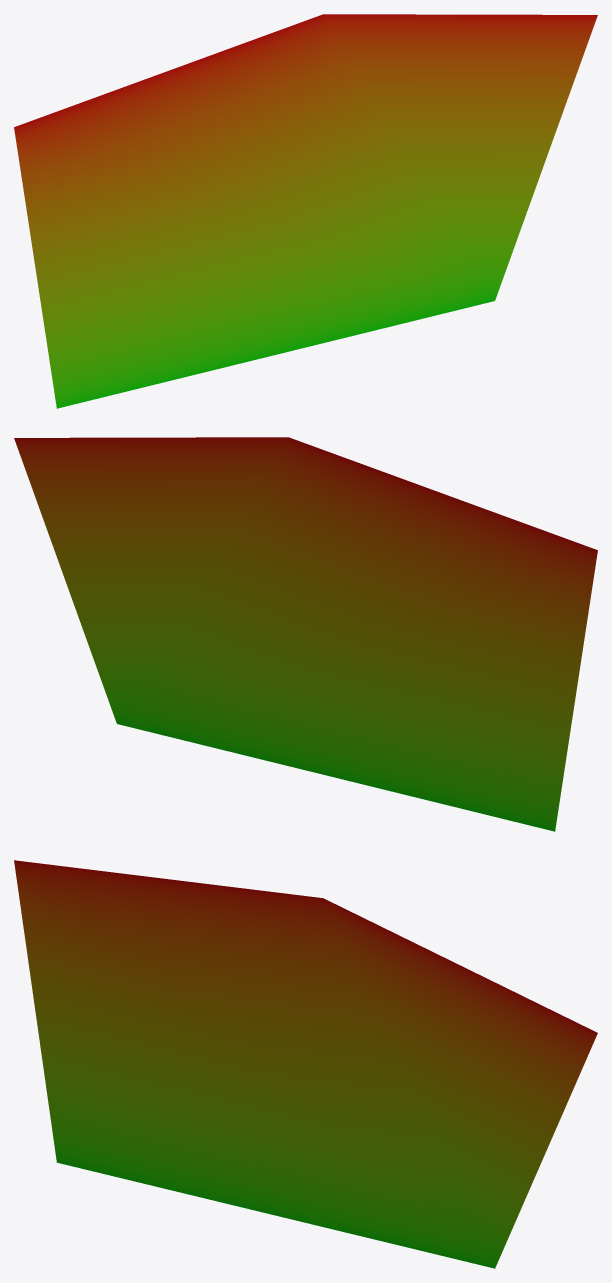
Rendered from Var3_LOD3.fbx.
3 renders of one model, top to bottom at view 1: azimuth 30°, elevation 25°; view 2: azimuth 150°, elevation 25°; view 3: azimuth 330°, elevation 25°, orthographic.
Visible parts, largest first — view 1: _6c72_Var3_LOD3; view 2: _6c72_Var3_LOD3; view 3: _6c72_Var3_LOD3.
Part boxes in pixels (box(x1,y1,x2,y2)): _6c72_Var3_LOD3: box(14, 14, 597, 408); _6c72_Var3_LOD3: box(14, 437, 597, 831); _6c72_Var3_LOD3: box(14, 860, 597, 1268).
Size of the model in its own units: 14.38 by 7.75 by 1.26e-06.
